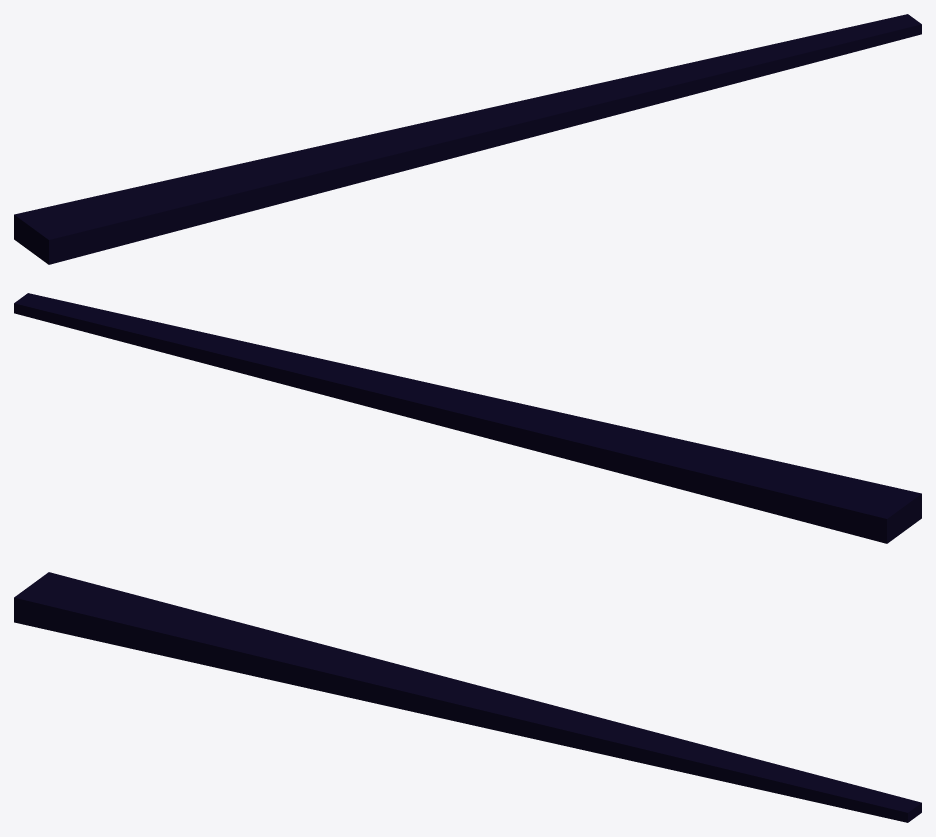
Rendered from clockhand.glb.
3 views of the same model, one above another, from view 1: azimuth 30°, elevation 25°; view 2: azimuth 150°, elevation 25°; view 3: azimuth 330°, elevation 25° (orthographic).
Visible parts, largest first — view 1: Cube; view 2: Cube; view 3: Cube.
Part boxes in pixels (box(x1,y1,x2,y2)): Cube: box(14, 14, 921, 264); Cube: box(14, 293, 921, 543); Cube: box(14, 572, 921, 822).
Size of the model in its own units: 29.24 by 0.7862 by 2.
